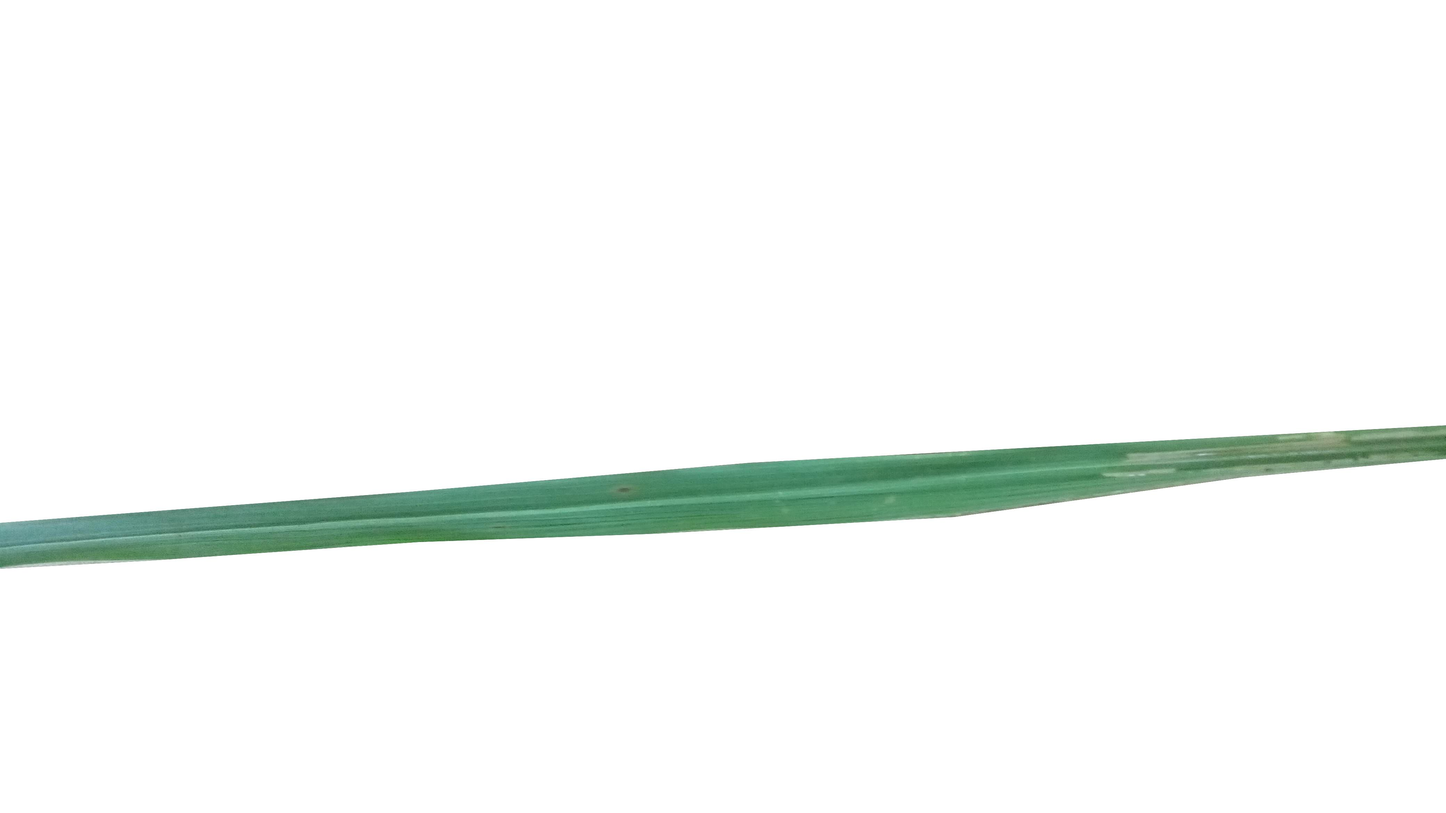Brown spot: (613, 481, 640, 504)
